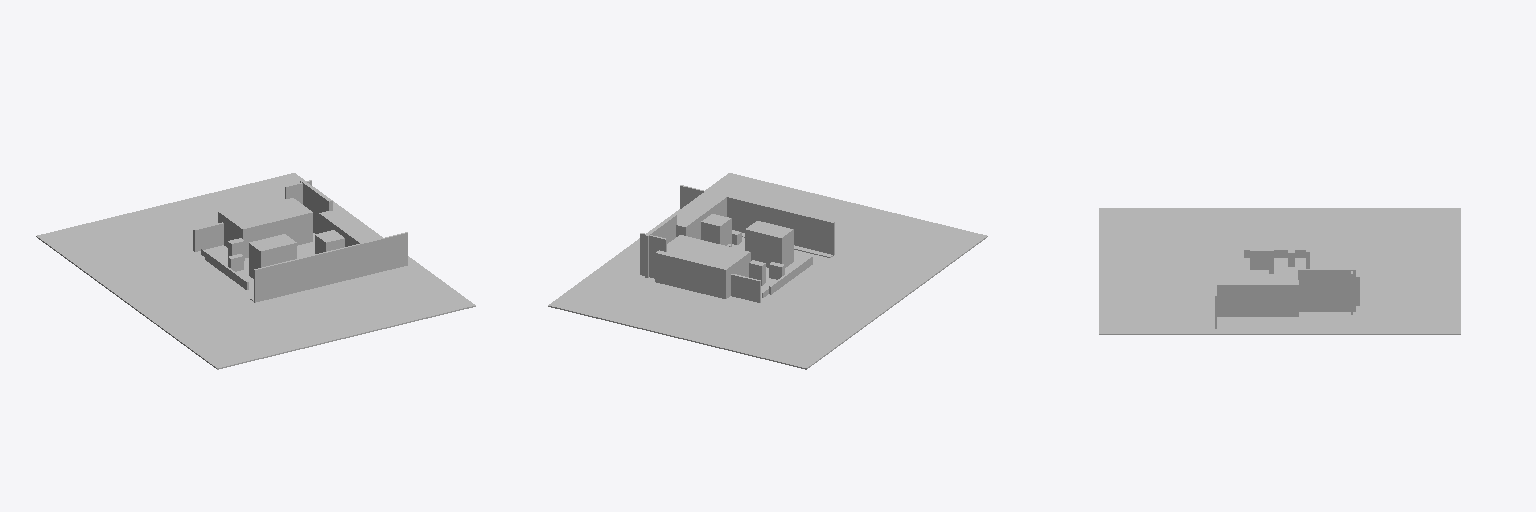
File: colliders.obj
The picture shows the model from 3 angles: view 1: azimuth 30°, elevation 25°; view 2: azimuth 150°, elevation 25°; view 3: azimuth 270°, elevation 25°; orthographic projection.
Visible parts, largest first — view 1: Cube, Cube.002, Cube.013, Cube.007, Cube.004, Cube.011, Cube.016, Cube.001; view 2: Cube, Cube.013, Cube.002, Cube.007, Cube.004, Cube.001, Cube.016, Cube.012, Cube.011; view 3: Cube, Cube.004, Cube.011, Cube.013, Cube.007.
Part boxes in pixels (bbox=[...]): Cube: bbox=[36, 173, 475, 369]; Cube.002: bbox=[254, 232, 407, 302]; Cube.013: bbox=[218, 195, 312, 257]; Cube.007: bbox=[249, 234, 296, 278]; Cube.004: bbox=[319, 208, 381, 246]; Cube.011: bbox=[300, 180, 332, 233]; Cube.016: bbox=[193, 222, 223, 251]; Cube.001: bbox=[315, 230, 344, 253]; Cube: bbox=[548, 173, 987, 369]; Cube.013: bbox=[655, 235, 750, 298]; Cube.002: bbox=[680, 185, 834, 255]; Cube.007: bbox=[745, 221, 793, 267]; Cube.004: bbox=[675, 192, 726, 239]; Cube.001: bbox=[701, 214, 731, 245]; Cube.016: bbox=[731, 274, 760, 302]; Cube.012: bbox=[640, 233, 666, 278]; Cube.011: bbox=[645, 214, 676, 277]; Cube: bbox=[1099, 208, 1460, 334]; Cube.004: bbox=[1217, 274, 1298, 316]; Cube.011: bbox=[1298, 269, 1355, 311]; Cube.013: bbox=[1310, 242, 1359, 305]; Cube.007: bbox=[1250, 233, 1273, 273].
Size of the model in its own units: 93.27 by 19 by 113.